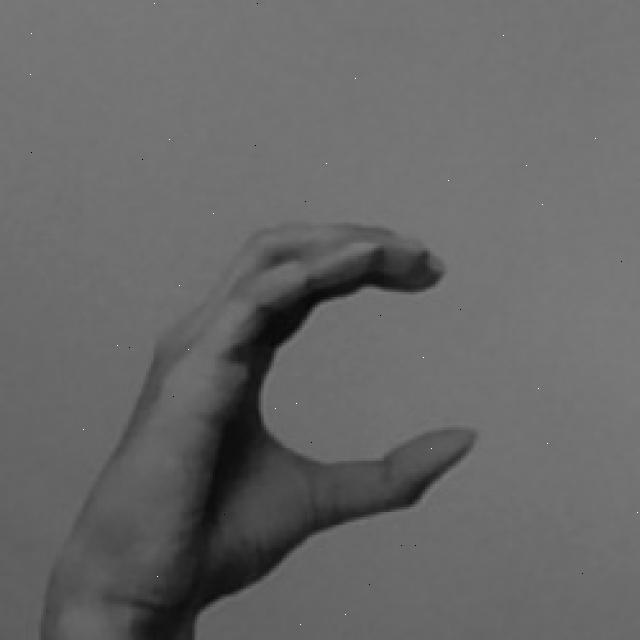C: (43, 222, 478, 640)
